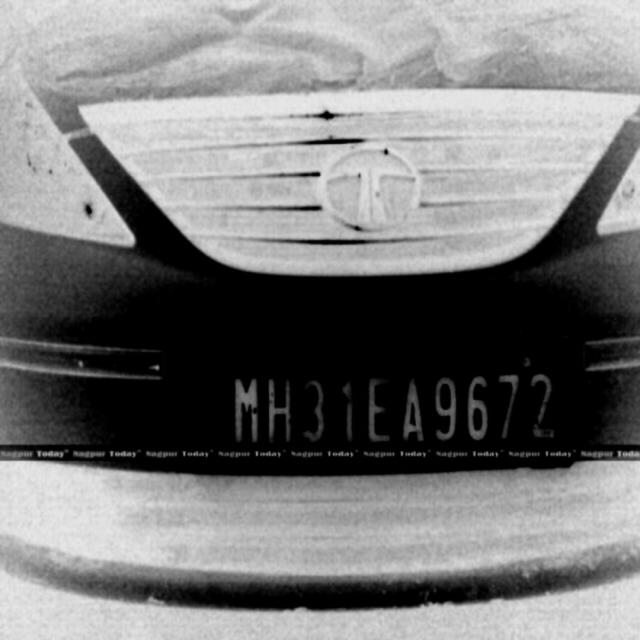Non_registered: (158, 350, 570, 468)
